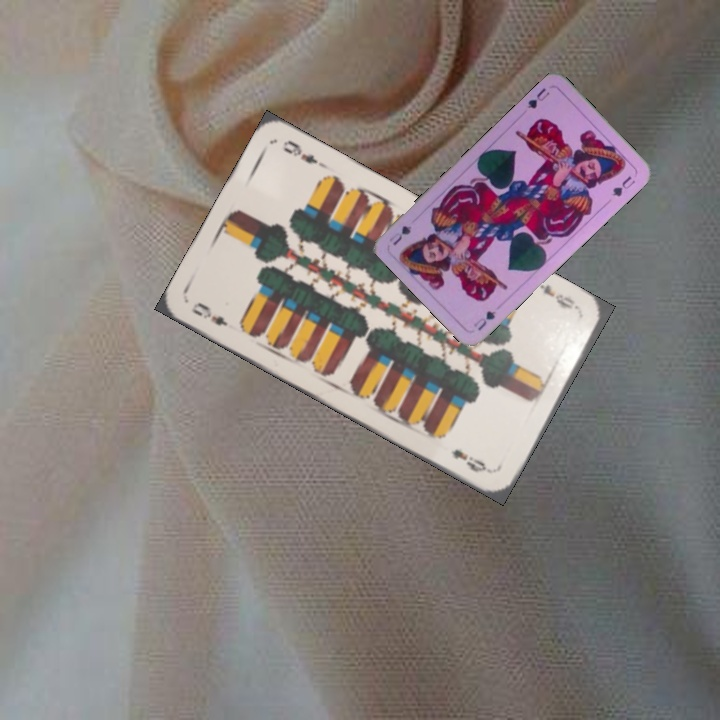E9: (530, 277, 584, 316), (188, 298, 231, 329)
GU: (523, 83, 552, 111), (469, 307, 498, 334)
